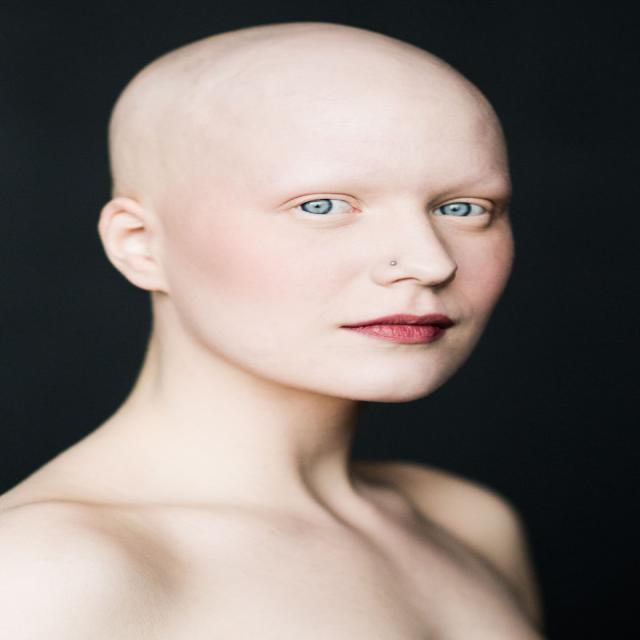no_helmet: (66, 9, 546, 258)
